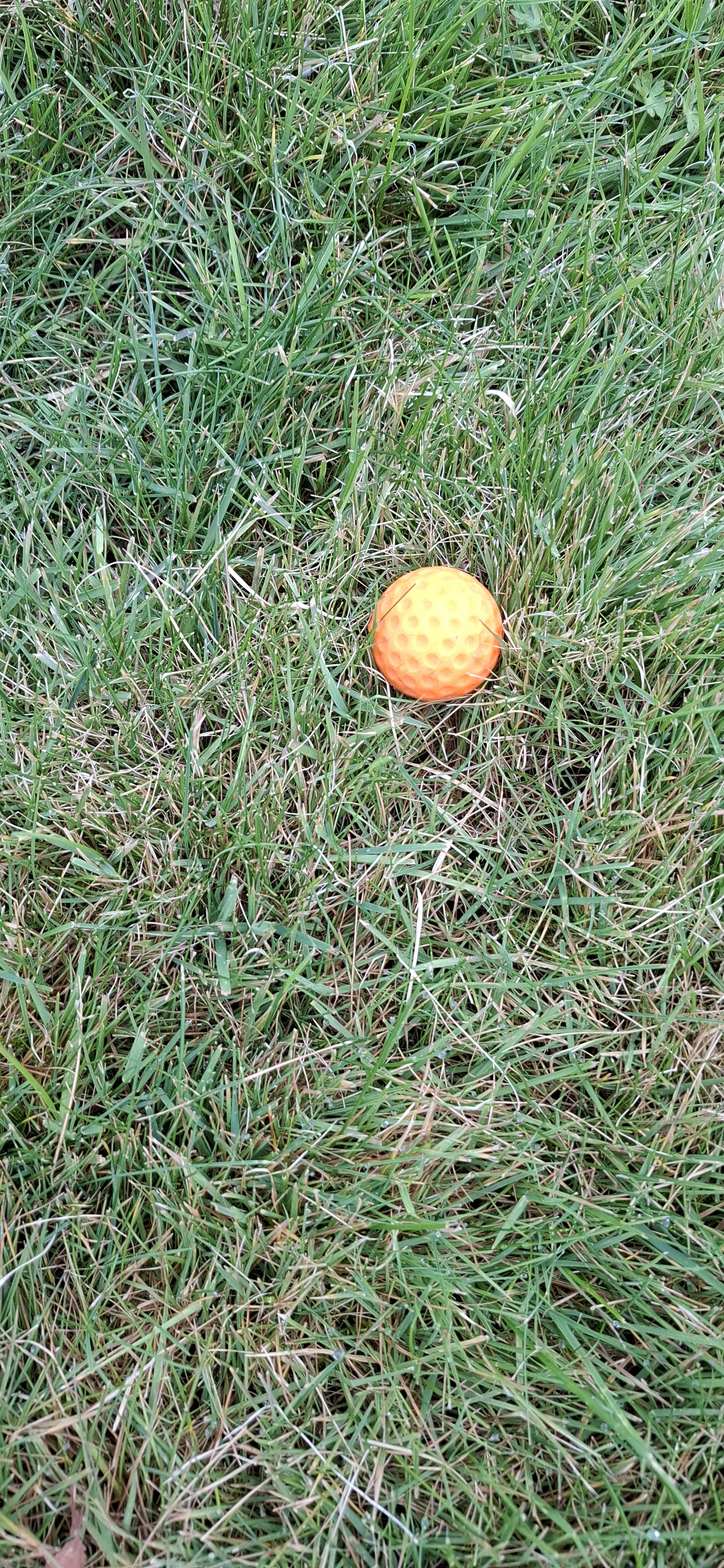ball: (261, 479, 324, 764)
